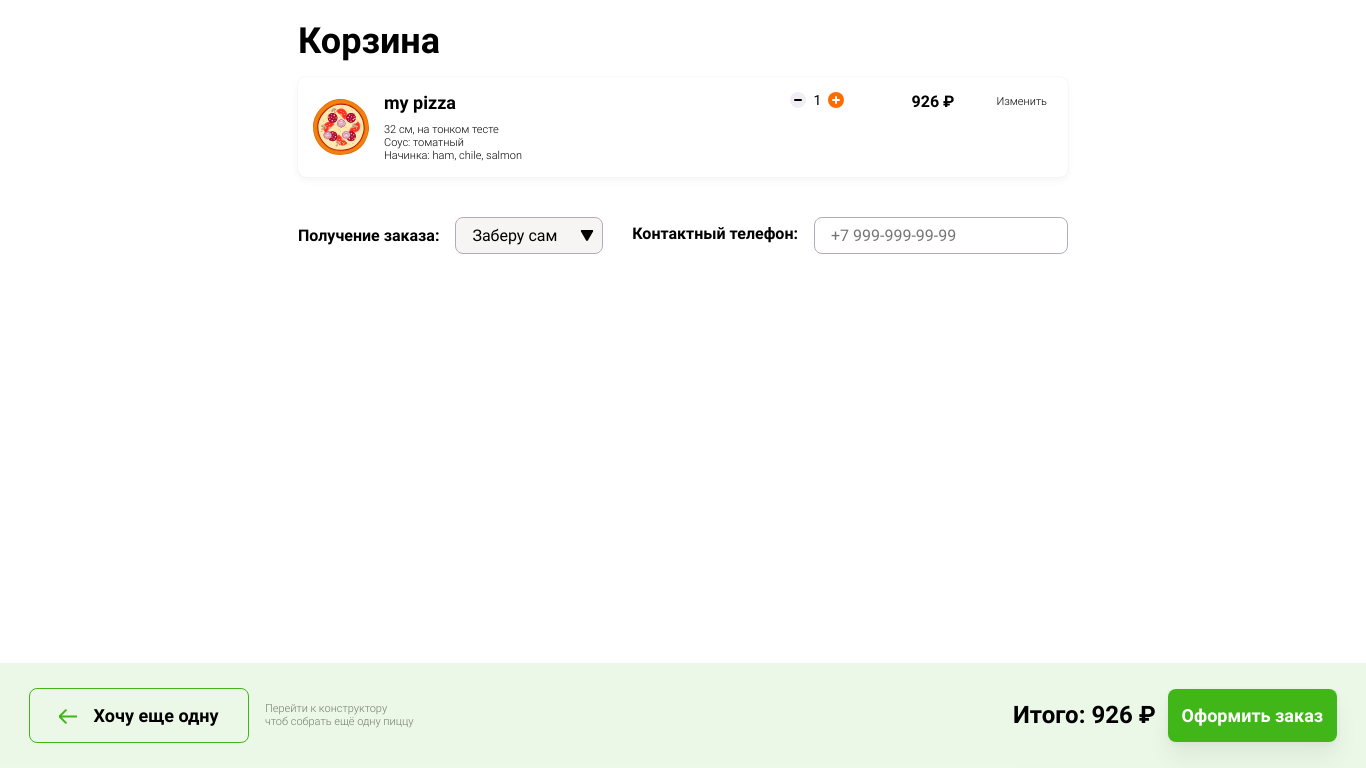
Test: Cart › should be show popup when click submit button
Type "4802384" into the field labelled "Контактный телефон:". click: (941, 236)
box: [814,217,1068,254]
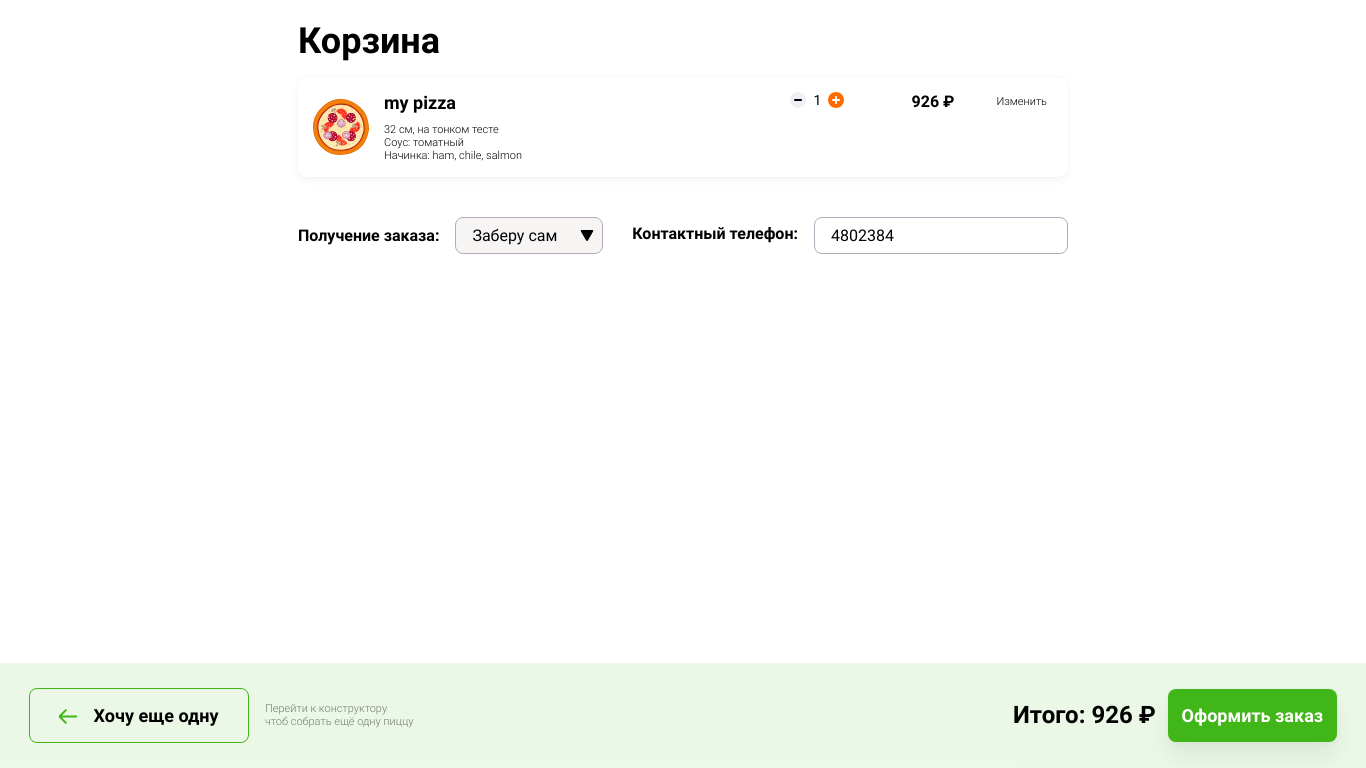
Click the submit button. click: (1252, 715)
box: [1168,689,1337,742]
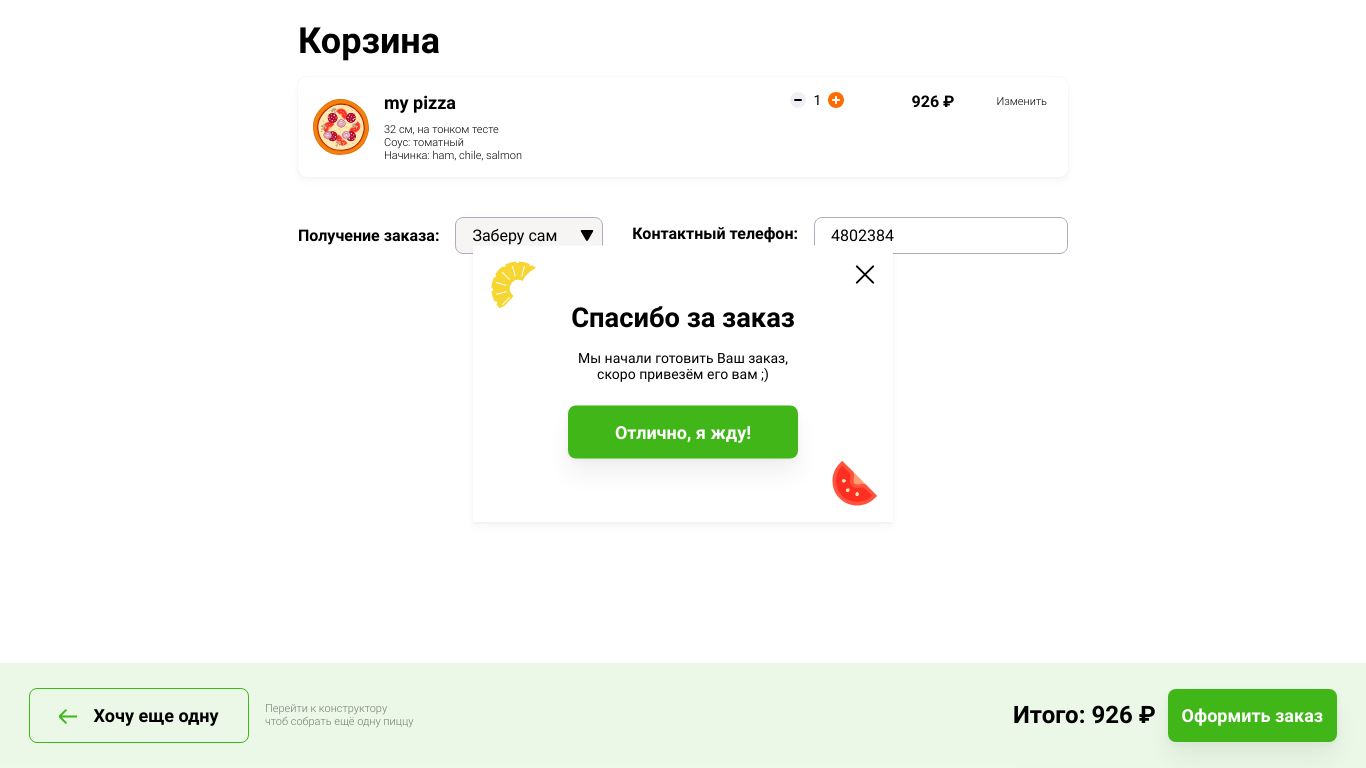
expect the element that starts with "Спасибо за заказ" is shown: met, box [473,246,893,522]
